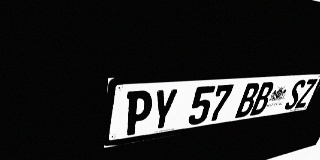5: (187, 86, 216, 126)
7: (206, 84, 234, 123)
B: (235, 83, 261, 118), (250, 82, 275, 116)
P: (123, 90, 154, 136)
S: (283, 79, 307, 110)
Y: (149, 88, 179, 132)
Z: (294, 79, 318, 109)
